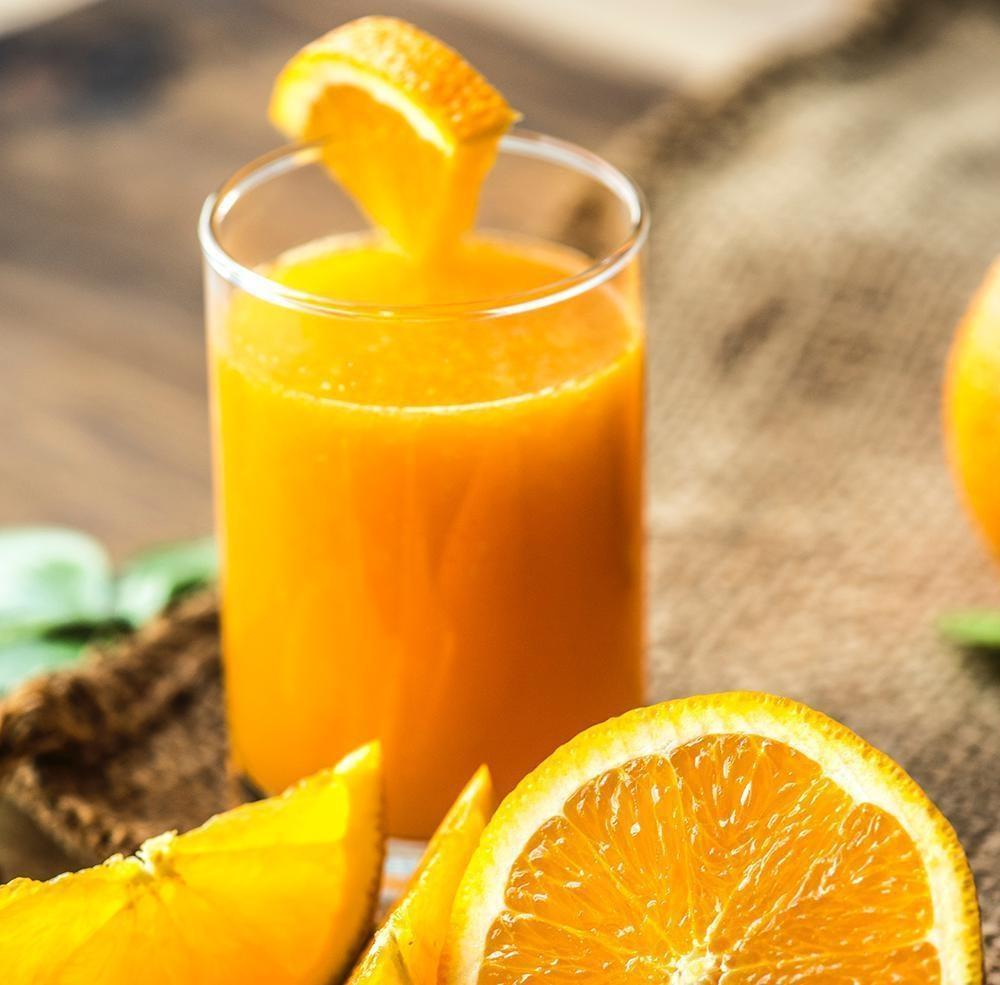glass-normal: (195, 114, 654, 849)
